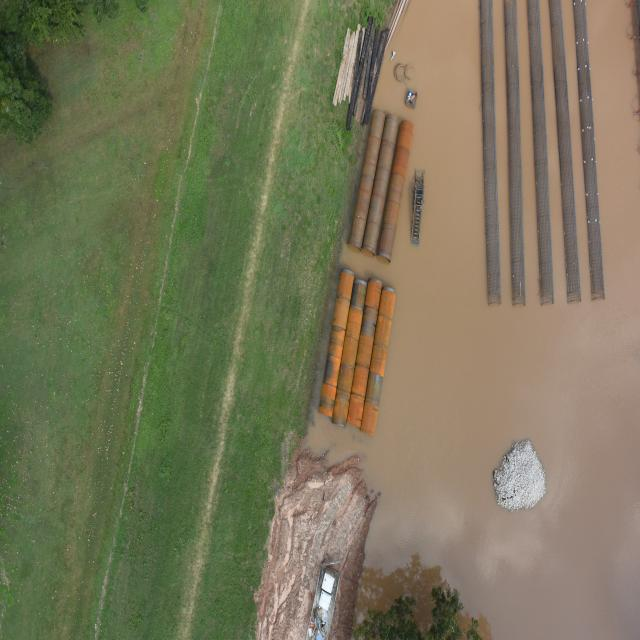fire: (306, 0, 640, 639)
